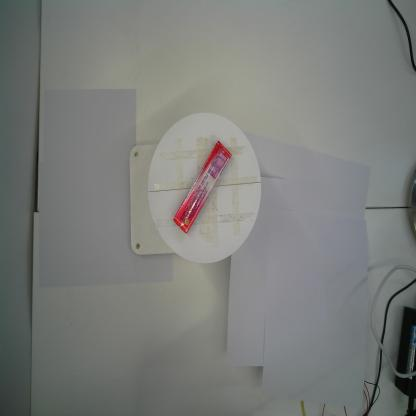Candy: (173, 141, 232, 234)
